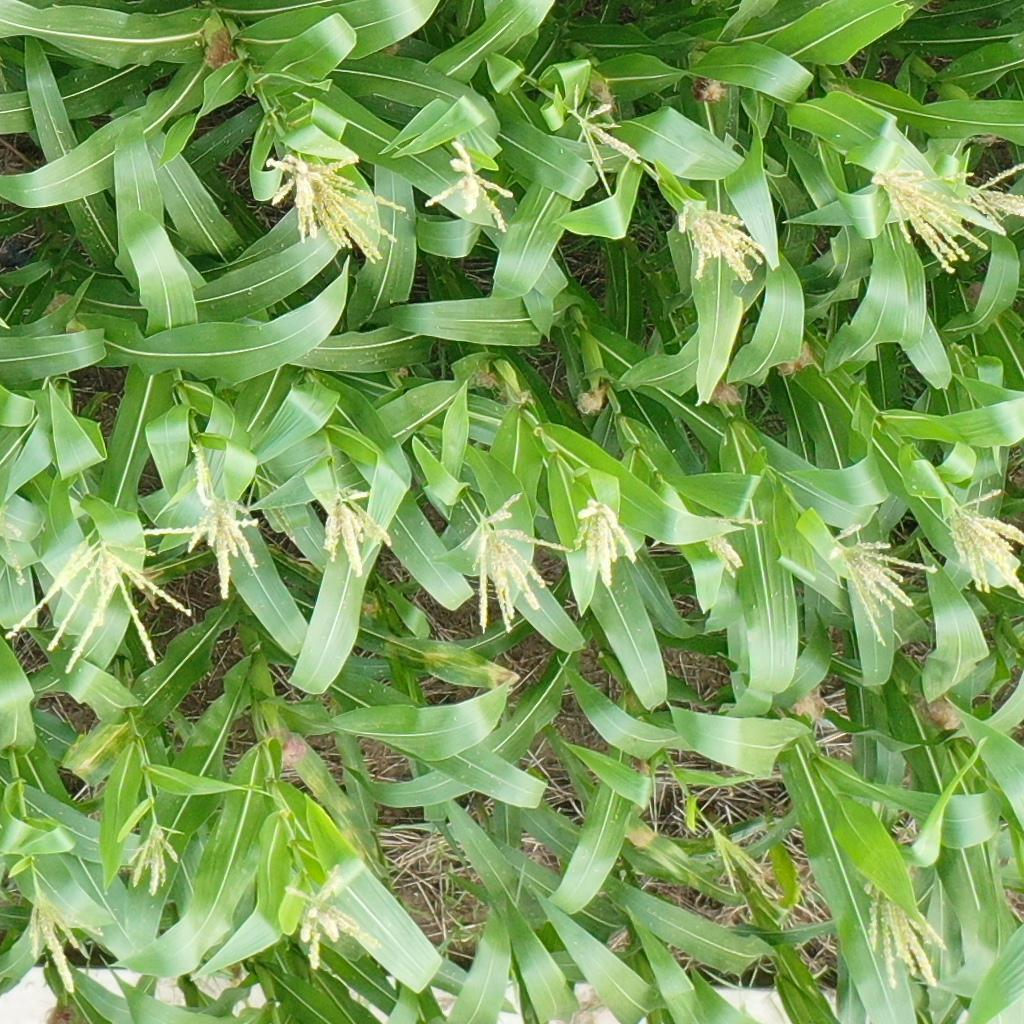Tassel: (5, 536, 195, 676), (136, 450, 261, 602), (263, 153, 406, 268), (462, 492, 573, 637), (828, 521, 937, 646), (873, 163, 993, 275), (282, 860, 383, 975), (862, 874, 949, 993), (940, 487, 1024, 599), (21, 886, 104, 994), (423, 138, 514, 231), (567, 84, 639, 198), (674, 197, 765, 286), (320, 485, 393, 580), (575, 496, 636, 588), (711, 826, 784, 901), (696, 511, 765, 579), (127, 823, 182, 900), (964, 163, 1024, 233), (1, 504, 29, 586)
